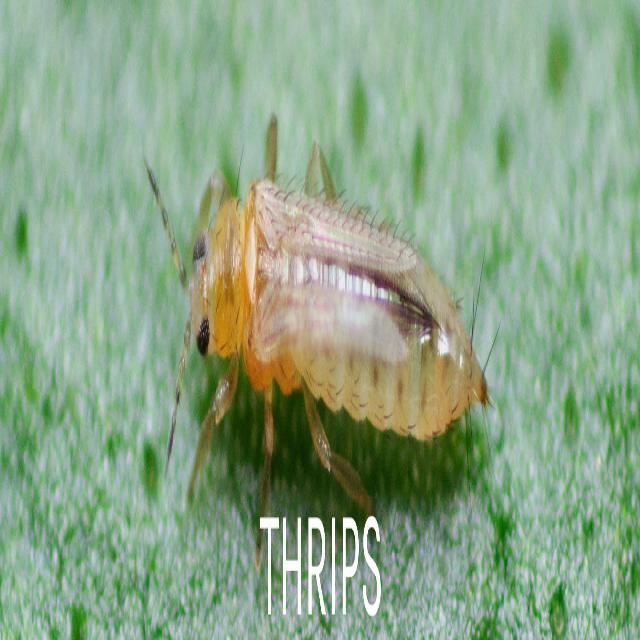Thrip-Adult-: (137, 129, 516, 528)
